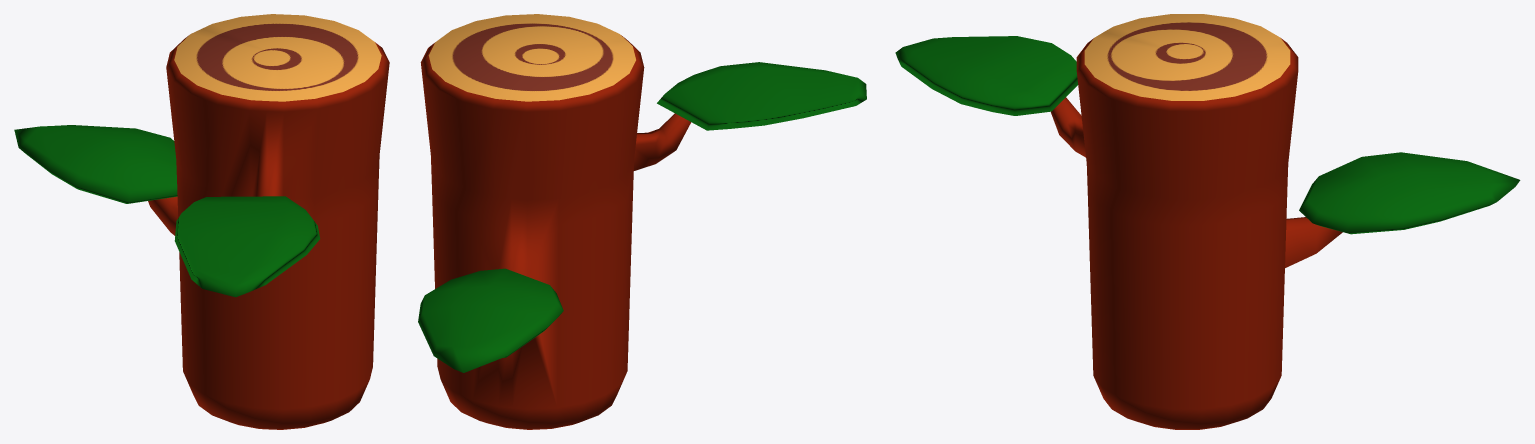
Rendered from TrunkWithLeavesLow.fbx.
3 views of the same model, side by side, from view 1: azimuth 30°, elevation 25°; view 2: azimuth 150°, elevation 25°; view 3: azimuth 270°, elevation 25° (orthographic).
Parts seen in each view (by area): view 1: Trunk3; view 2: Trunk3; view 3: Trunk3.
Part boxes in pixels (<box>): Trunk3: <box>14,14,389,429</box>; Trunk3: <box>418,14,866,429</box>; Trunk3: <box>895,14,1520,429</box>.
Size of the model in its own units: 3.72 by 4.08 by 6.69.
